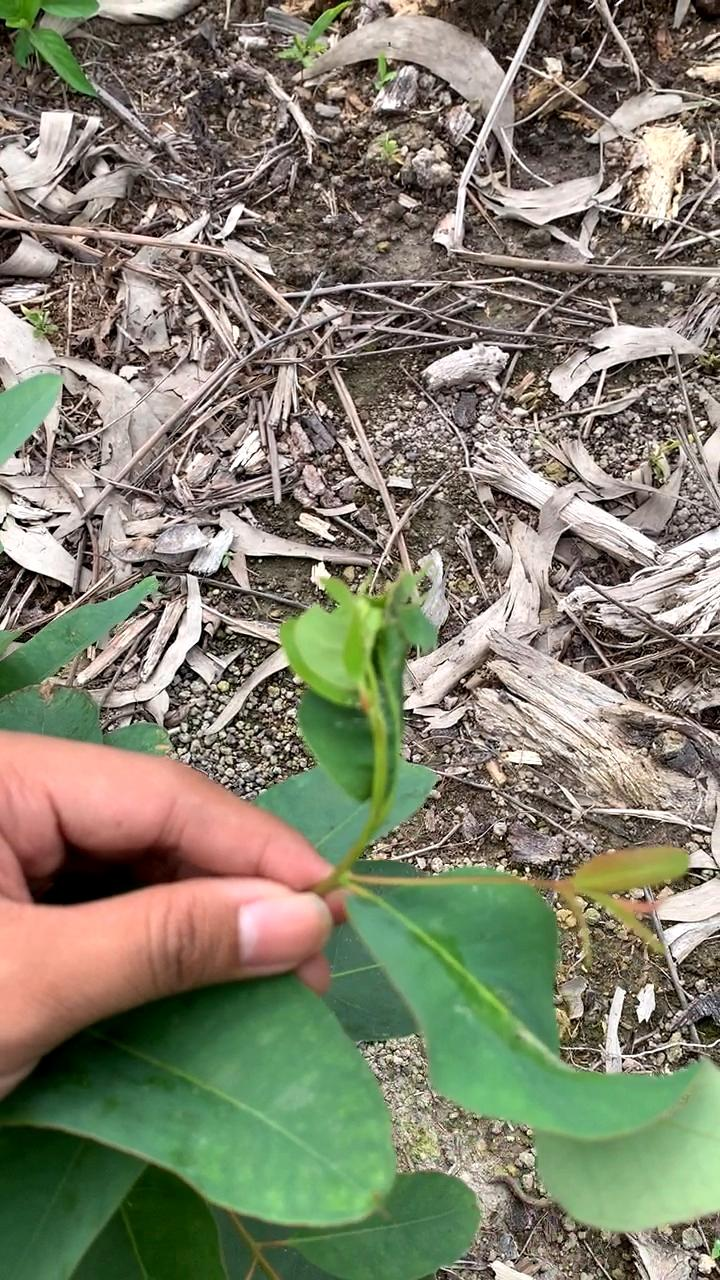Leaf Roller - Leaf: (280, 568, 443, 811)
